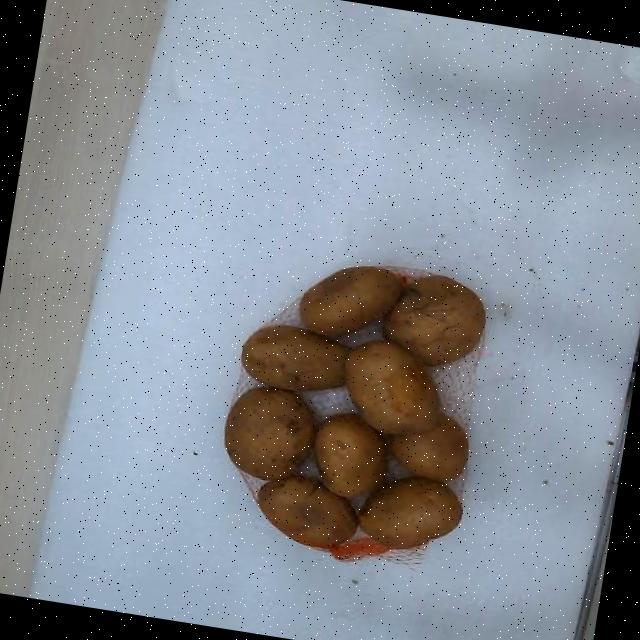potato: (384, 275, 485, 365), (345, 339, 438, 434), (225, 386, 316, 478), (358, 476, 462, 548), (257, 474, 357, 548), (299, 265, 402, 336), (242, 325, 348, 389), (314, 413, 386, 497), (390, 413, 468, 482)
